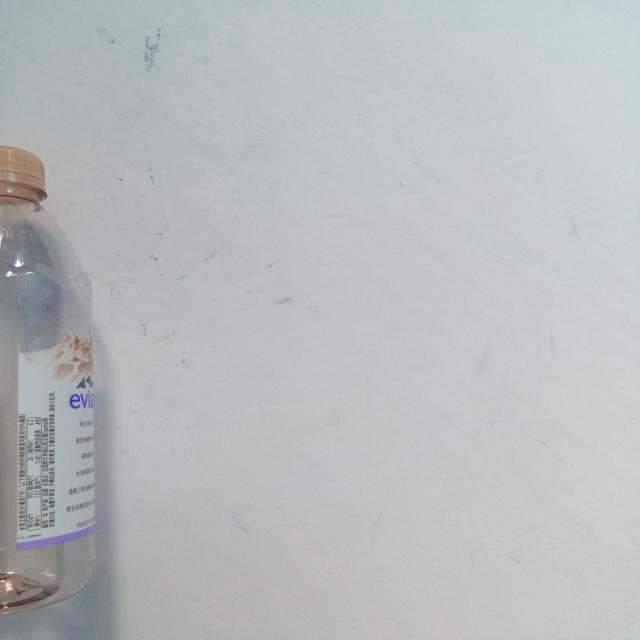plastic: (0, 132, 167, 639)
